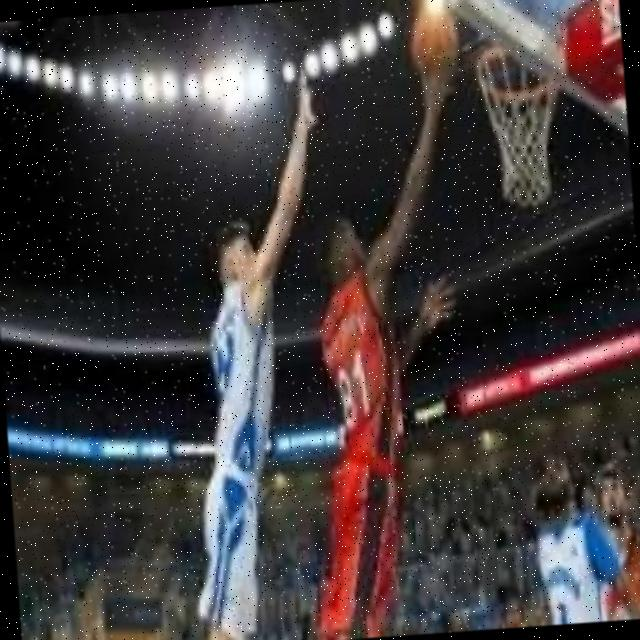ball: (414, 8, 456, 73)
hoop: (474, 36, 567, 102)
